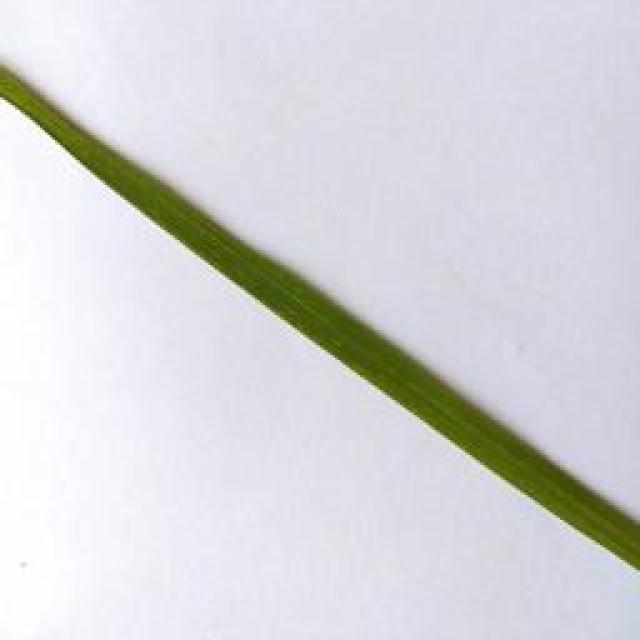Healthy-Plant: (106, 142, 552, 492)
